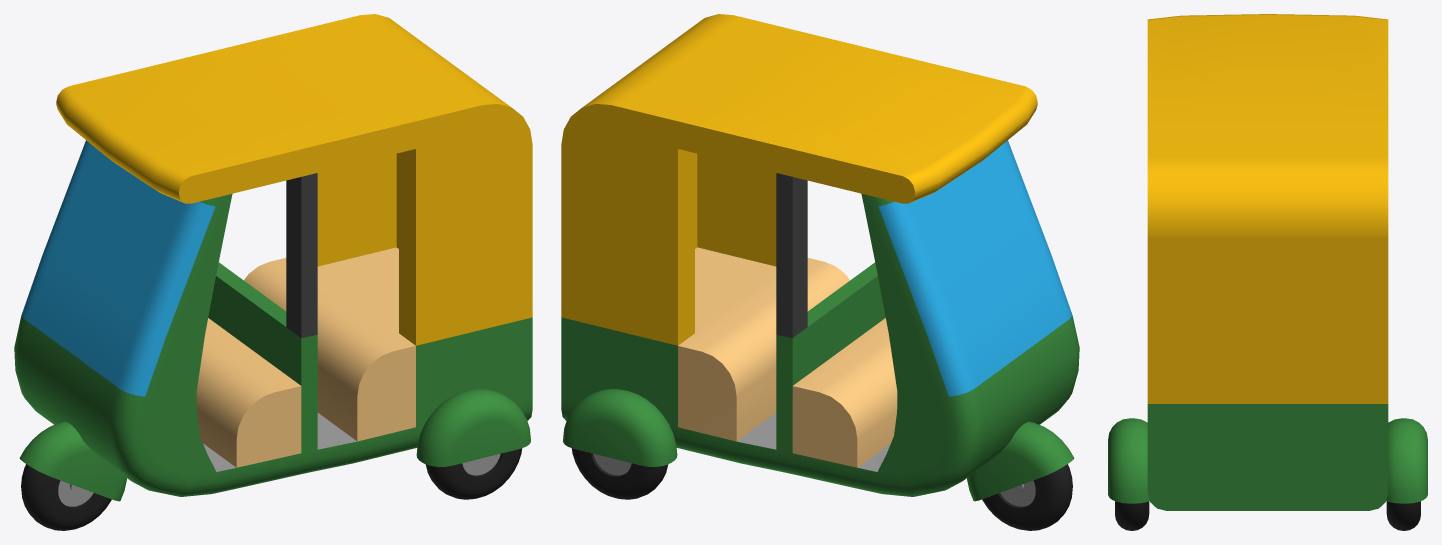
Rendered from auto_rickshaw.gltf.
3 views of the same model, side by side, from view 1: azimuth 30°, elevation 25°; view 2: azimuth 150°, elevation 25°; view 3: azimuth 270°, elevation 25° (orthographic). The views are drawn at different scales.
Visible parts, largest first — view 1: Cube.739, Cylinder.440, Cylinder.437, Cylinder.439, Cylinder.441; view 2: Cube.739, Cylinder.440, Cylinder.437, Cylinder.439, Cylinder.441; view 3: Cube.739, Cylinder.440, Cylinder.441.
Part boxes in pixels (bbox=[...]): Cube.739: bbox=[14, 14, 532, 496]; Cylinder.440: bbox=[416, 389, 530, 466]; Cylinder.437: bbox=[19, 421, 126, 501]; Cylinder.439: bbox=[21, 464, 111, 530]; Cylinder.441: bbox=[425, 448, 522, 499]; Cube.739: bbox=[561, 14, 1079, 496]; Cylinder.440: bbox=[563, 389, 677, 466]; Cylinder.437: bbox=[967, 421, 1074, 501]; Cylinder.439: bbox=[982, 464, 1072, 530]; Cylinder.441: bbox=[571, 448, 668, 499]; Cube.739: bbox=[1147, 14, 1388, 510]; Cylinder.440: bbox=[1108, 418, 1427, 503]; Cylinder.441: bbox=[1115, 501, 1420, 530].
Size of the model in its own units: 2.19 by 1.79 by 1.38.
Materials: 1 (1 with a texture image).
